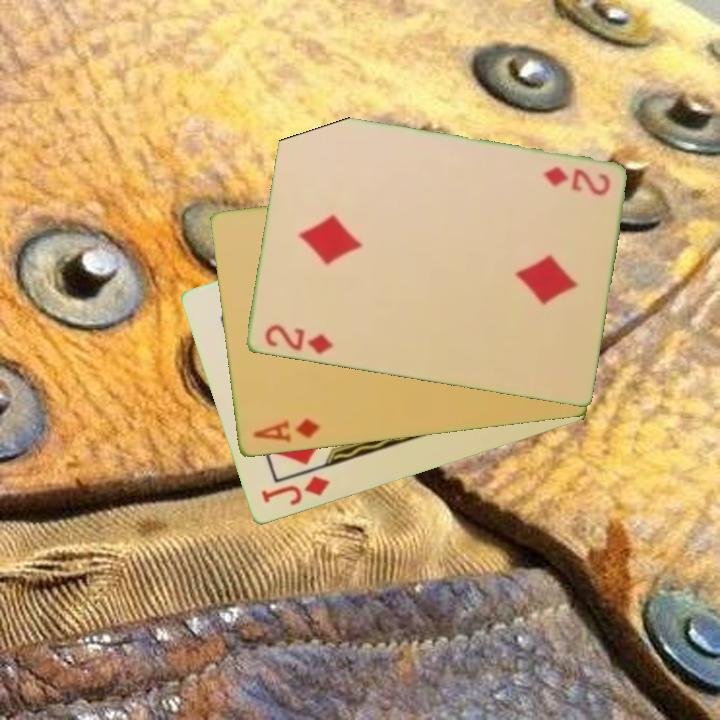2d: (261, 321, 336, 357), (539, 163, 613, 198)
Ad: (249, 415, 322, 446)
Jd: (257, 472, 333, 509)
